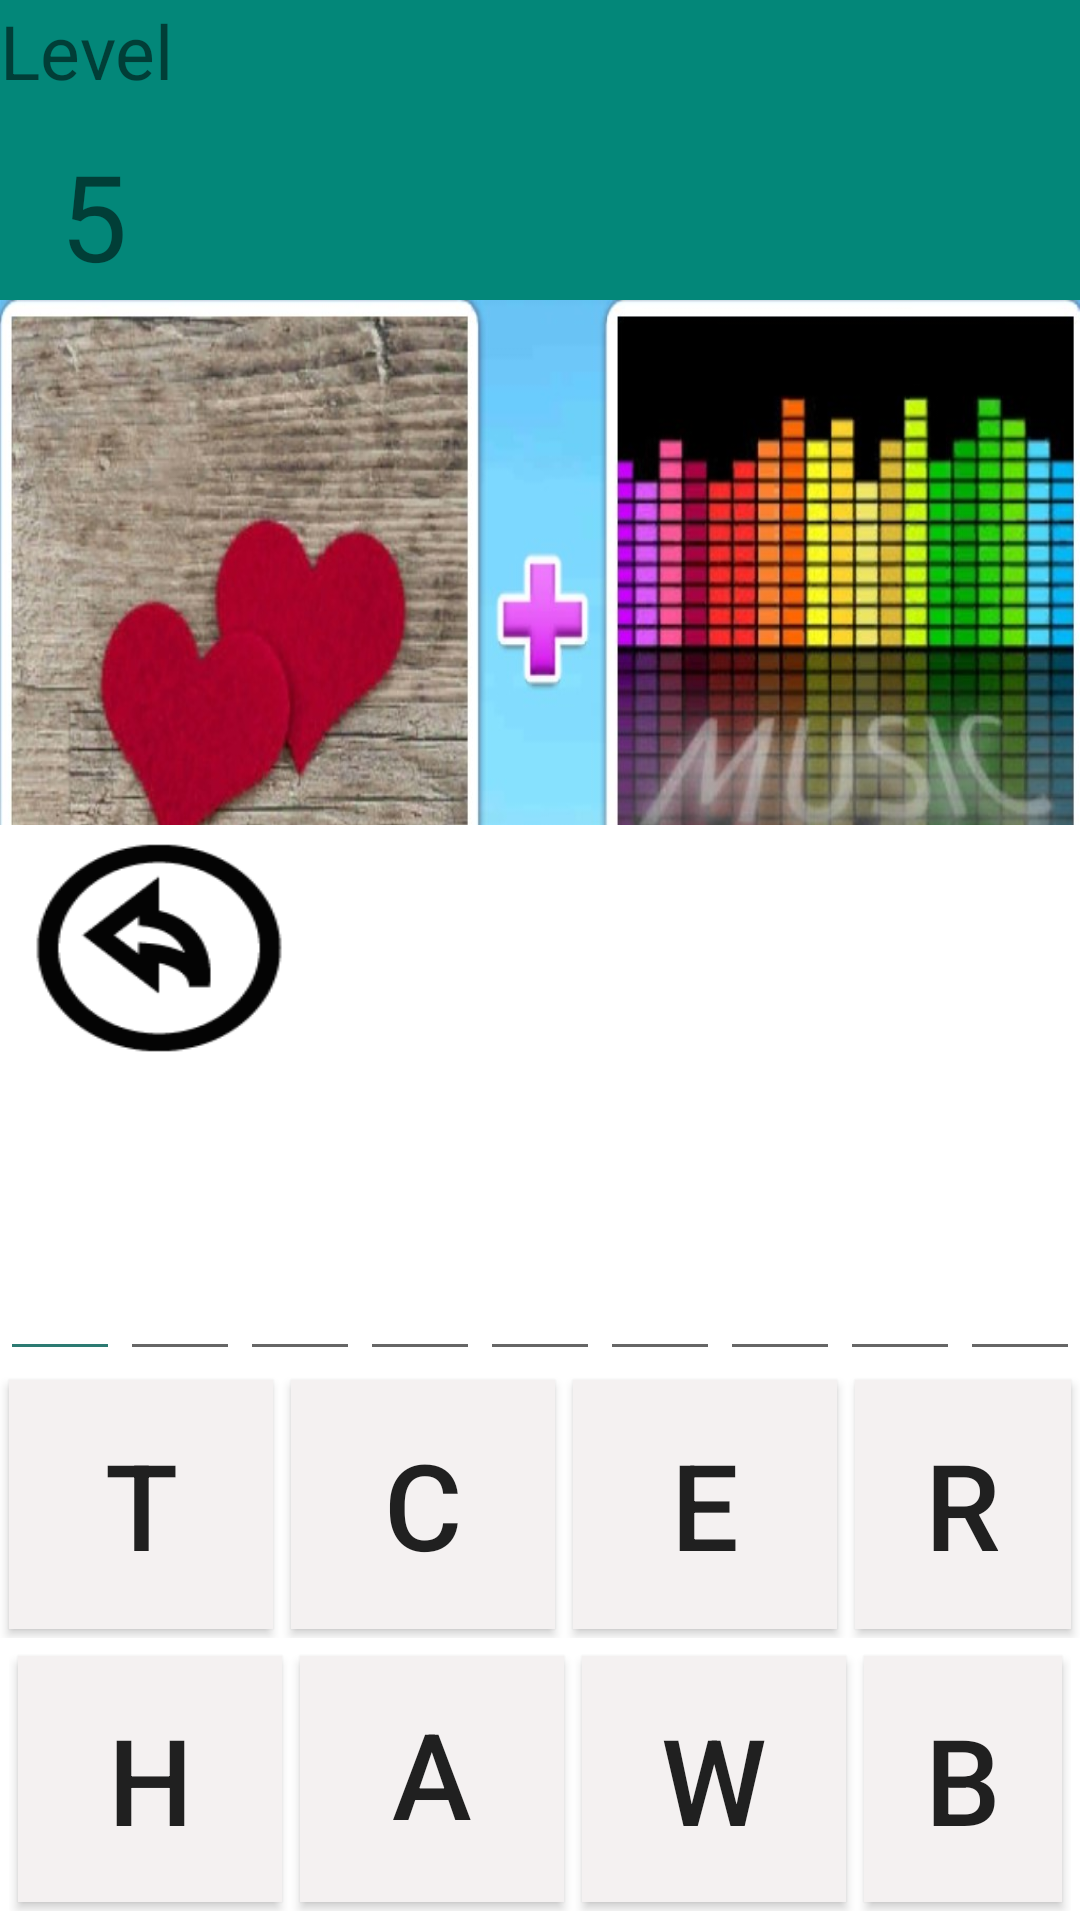

Screen size 1080w x 1920h. Icon name, then its box in pixels as [x1,y1,x2,y2]:
reset: [36,844,282,1052]
